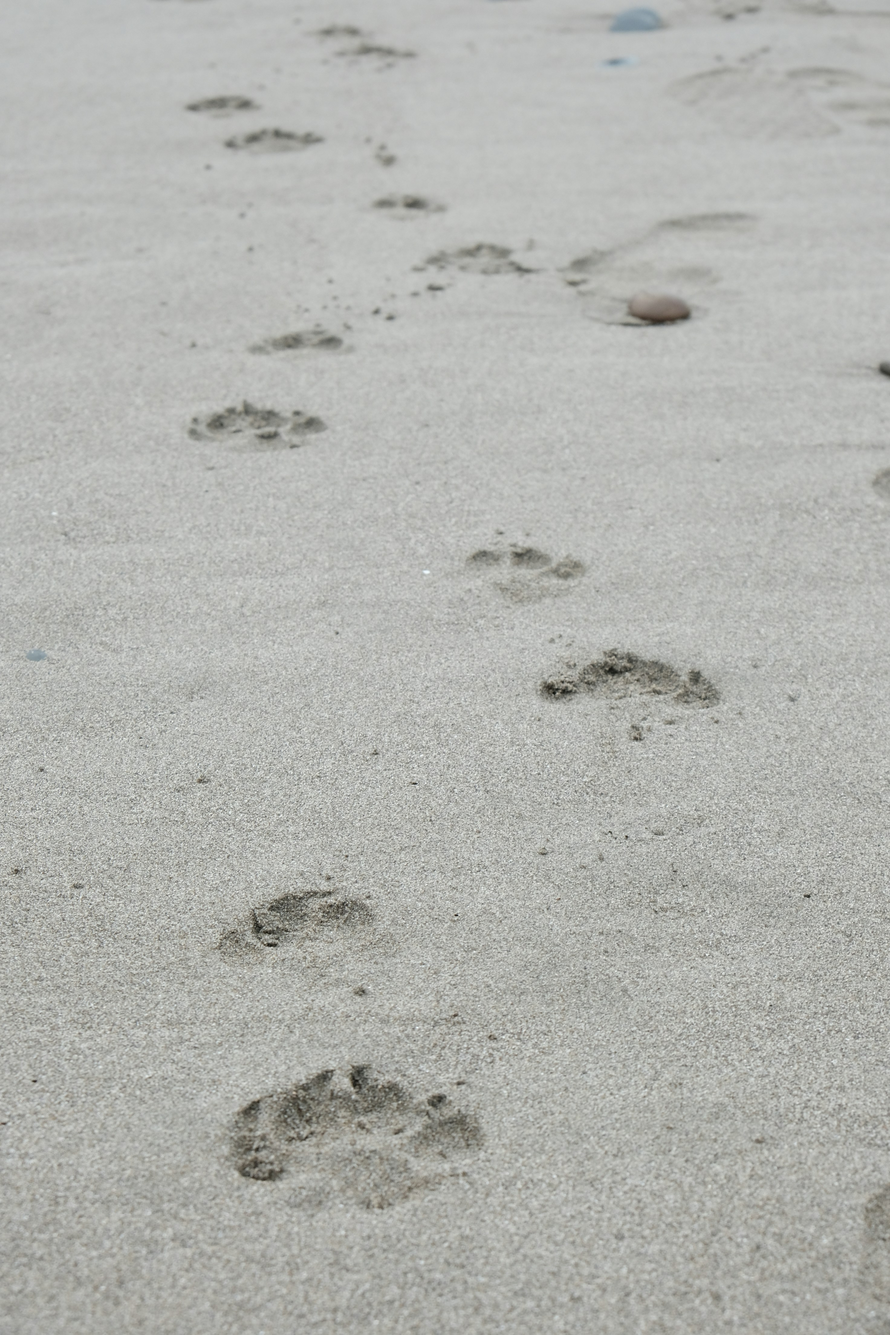animal_foot_print: (230, 1066, 484, 1209), (560, 212, 756, 325), (668, 63, 837, 141), (219, 889, 374, 963), (563, 255, 718, 327), (540, 649, 719, 708), (467, 544, 586, 603), (188, 400, 327, 450), (786, 67, 890, 128), (419, 242, 533, 275), (859, 1185, 890, 1304), (249, 326, 343, 354), (225, 128, 323, 153), (657, 211, 756, 233), (337, 40, 416, 65), (560, 249, 610, 286), (372, 194, 446, 219), (186, 95, 259, 116), (315, 24, 368, 39), (872, 468, 890, 500), (374, 144, 398, 167)
